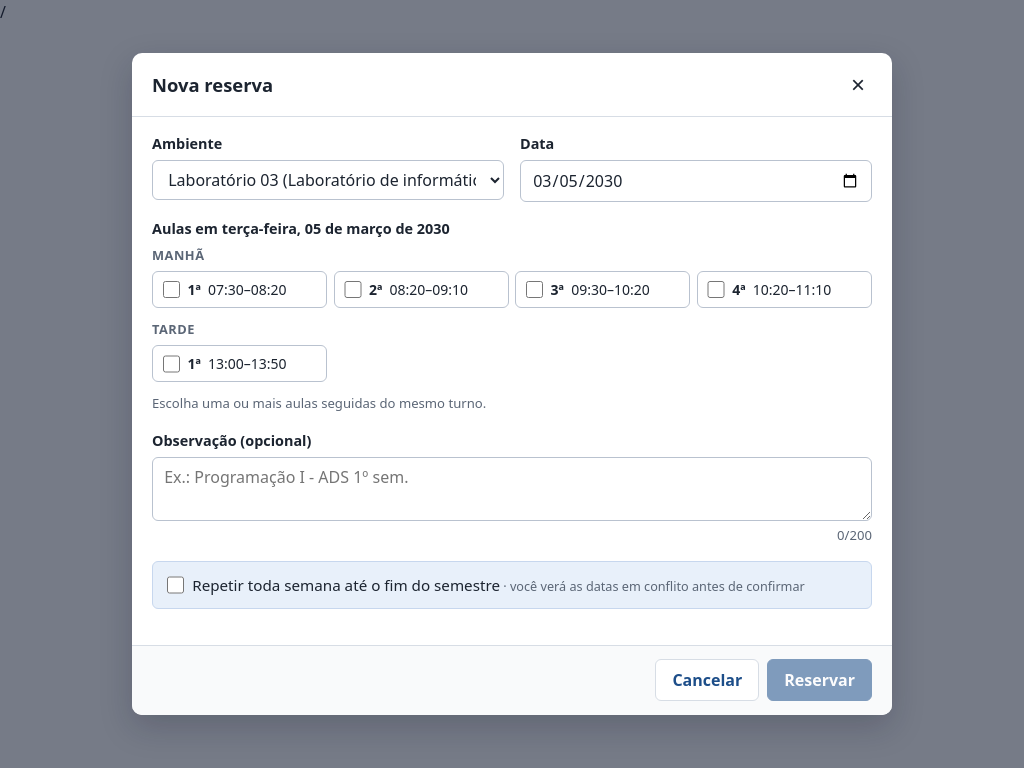
Test: ModalReserva: recorrência com prévia › desmarcar todas desabilita a confirmação; "marcar todas as livres" volta às livres
The width and height of the screenshot is (1024, 768).
Expected: the text "Aulas em" is shown, [152,219,450,238]
What coordinates should you click on to do the following:
click the 6th checkbox
I would click on:
 (175, 585)
Its box is [167,576,184,594].
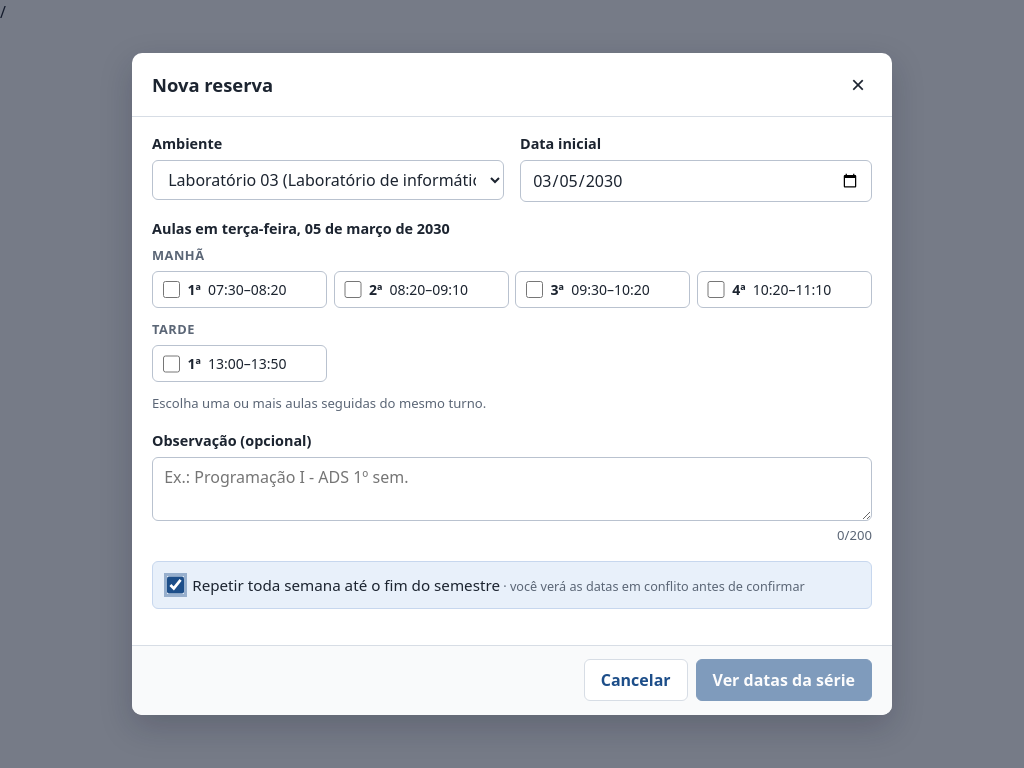
What coordinates should you click on to do the following:
click the checkbox labelled "1ª 07:30–08:20"
I would click on:
 (171, 290)
Its box is [163,281,180,298].
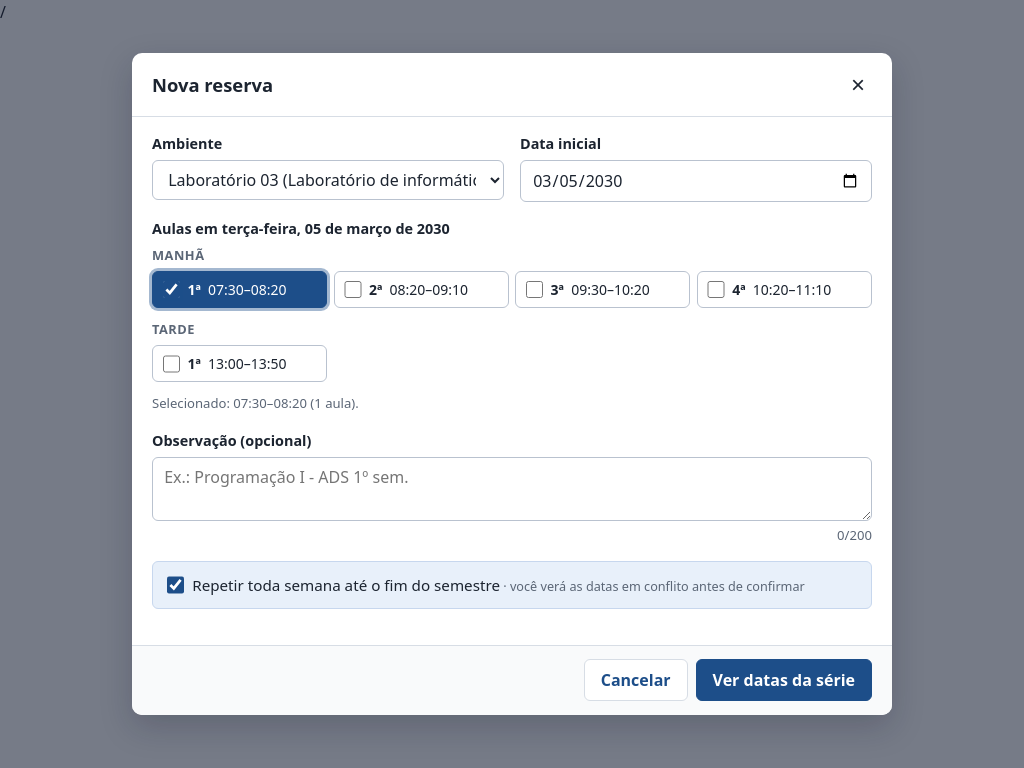
What coordinates should you click on to do the following:
click the checkbox labelled "2ª 08:20–09:10"
I would click on:
 (353, 290)
Its box is [344,281,362,298].
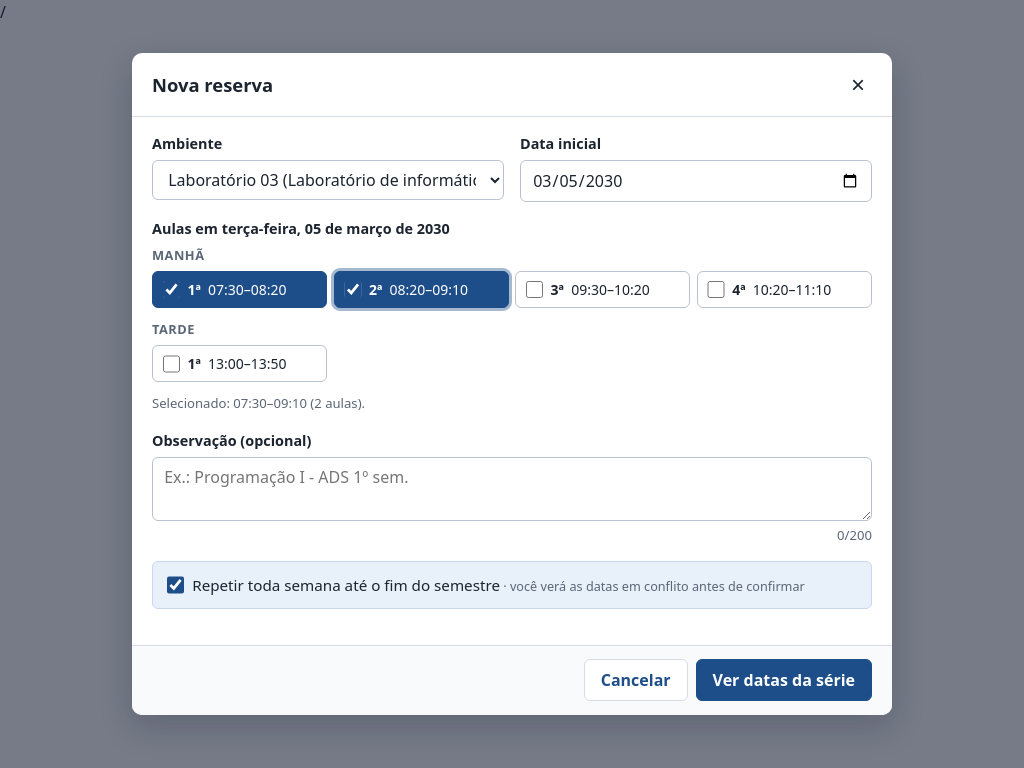
What coordinates should you click on to do the following:
click the button "Ver datas da série"
I would click on:
 (784, 680)
Its box is [696,659,872,701].
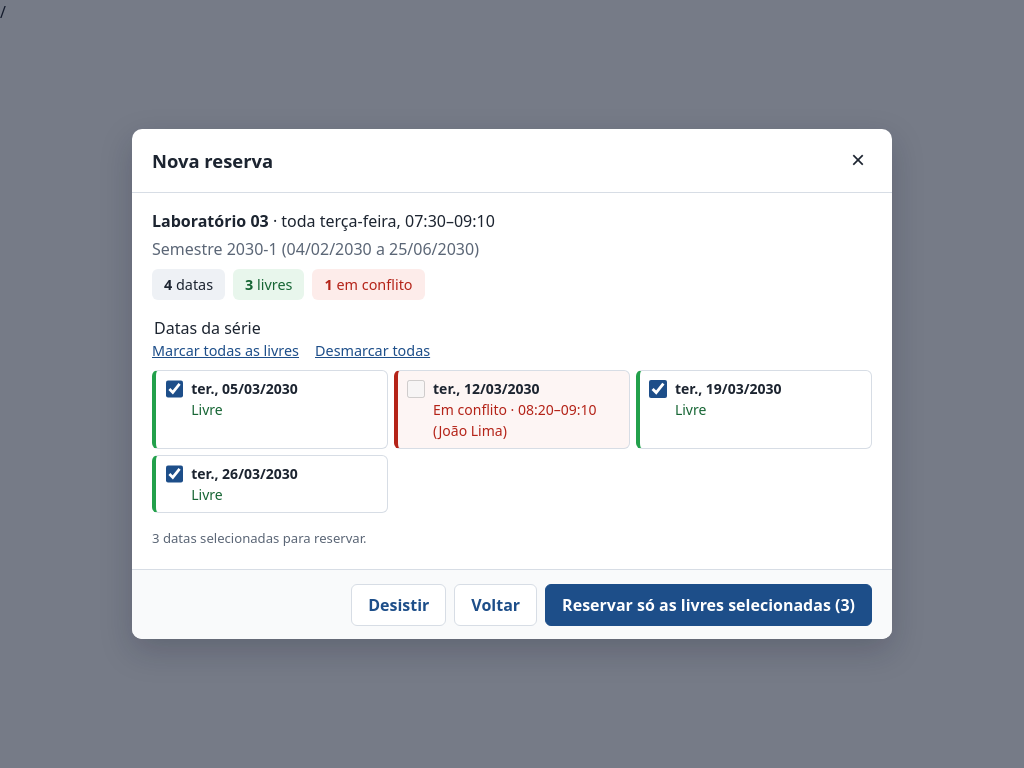
Now the text "Datas da série" is shown, box [152,316,263,340]
What coordinates should you click on to do the following:
click the button "Desmarcar todas"
I would click on:
 (373, 351)
Its box is [315,340,430,362].
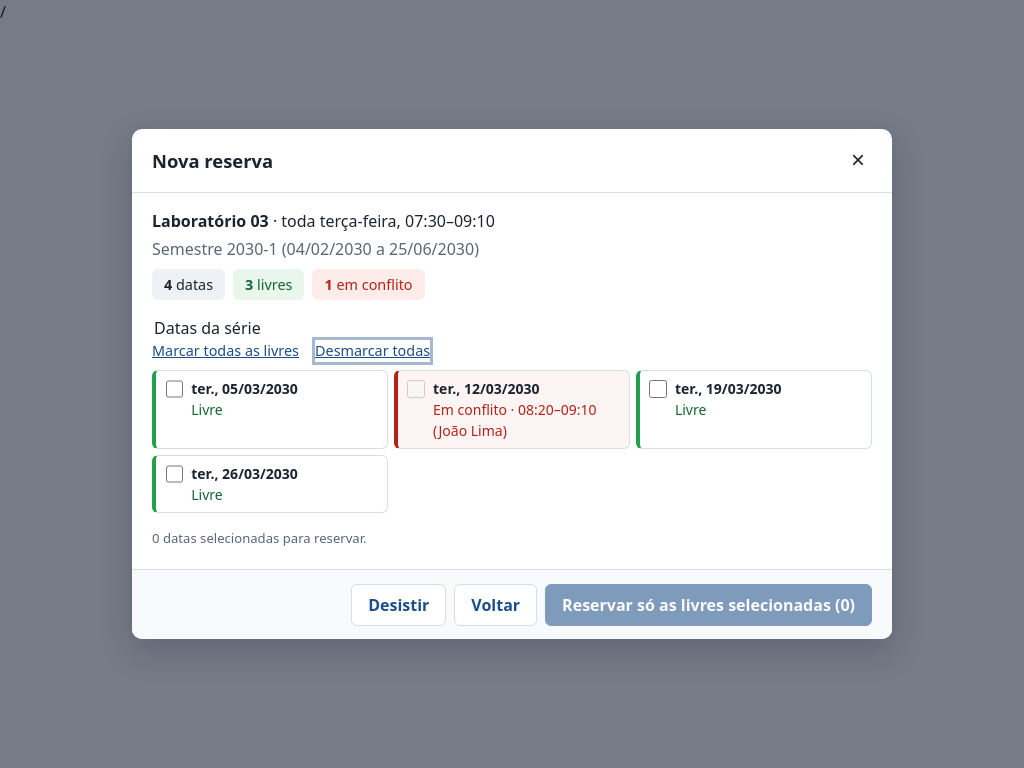
Now the button "Reservar só as livres selecionadas (0)" is disabled, box [545,584,872,626]
What coordinates should you click on to do the following:
click the button "Marcar todas as livres"
I would click on:
 (226, 351)
Its box is [152,340,299,362].
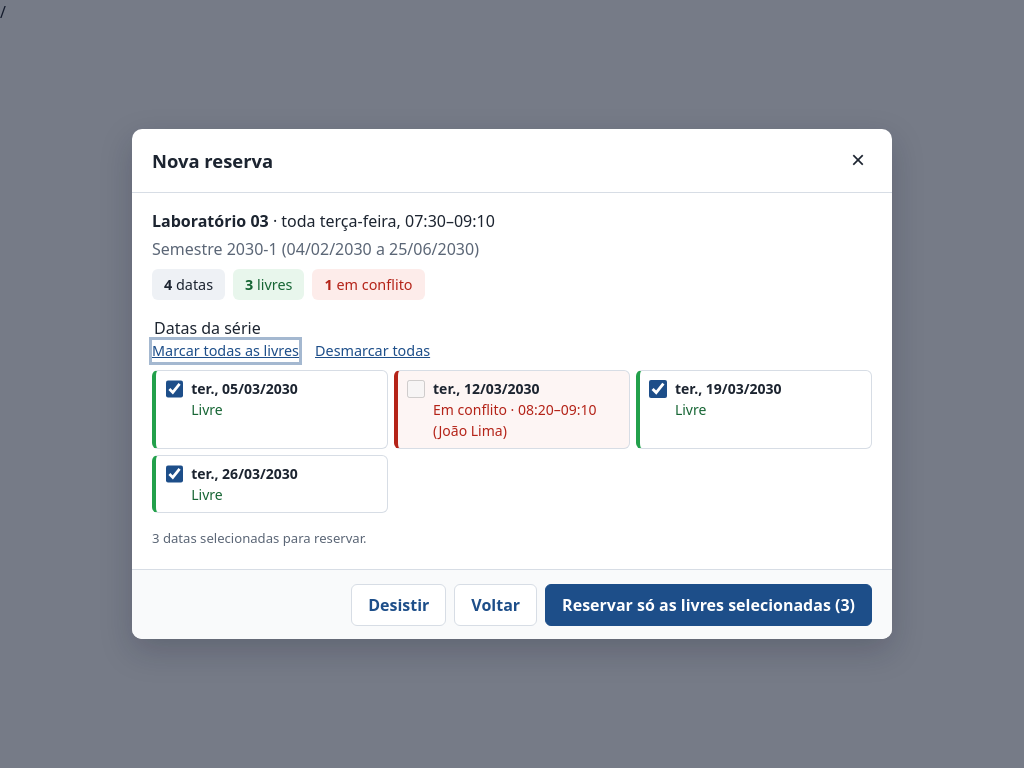
Now the button "Reservar só as livres selecionadas (3)" is enabled, box [545,584,872,626]
